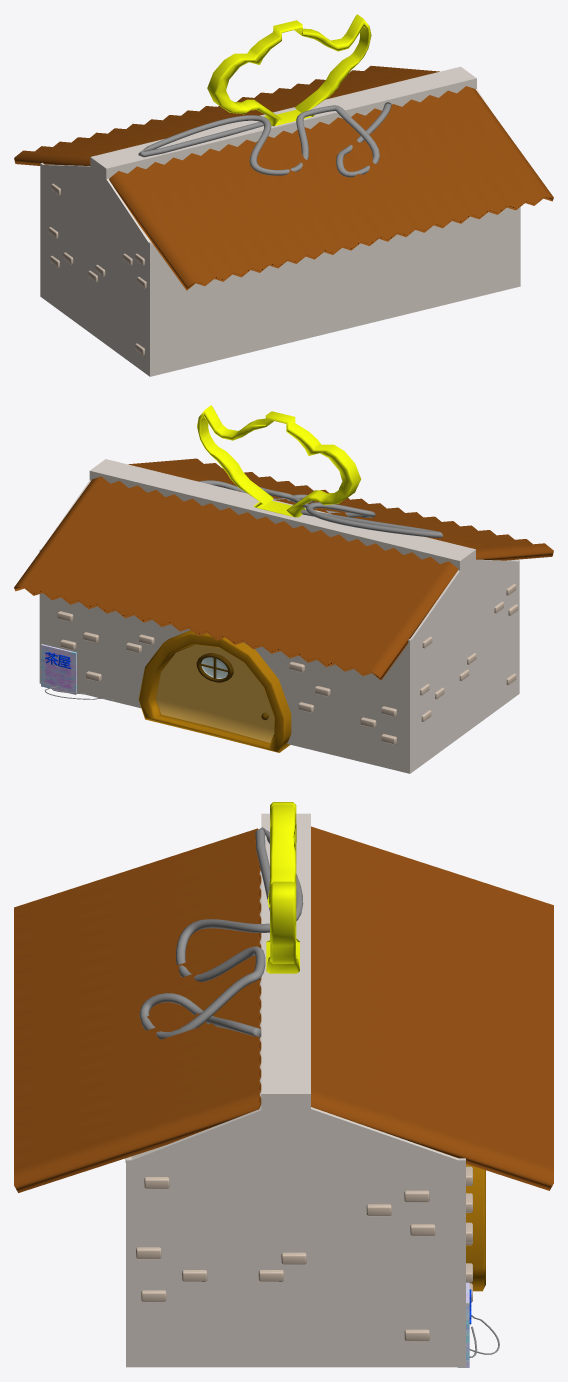
Rendered from Teahouse pivot fix.fbx.
The picture shows the model from 3 angles, top to bottom: view 1: azimuth 30°, elevation 25°; view 2: azimuth 150°, elevation 25°; view 3: azimuth 270°, elevation 25°; orthographic projection. The views are drawn at different scales.
Visible parts, largest first — view 1: Teahouse; view 2: Teahouse; view 3: Teahouse.
Part boxes in pixels (x1=…): Teahouse: x1=14, y1=14, x2=553, y2=376; Teahouse: x1=14, y1=405, x2=553, y2=773; Teahouse: x1=14, y1=802, x2=553, y2=1367.
Size of the model in its own units: 12.18 by 8.49 by 9.77.
